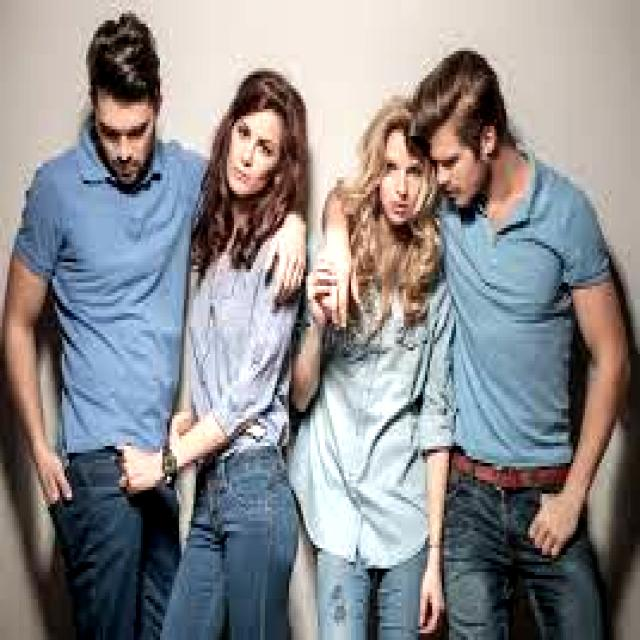face: (94, 92, 157, 187), (430, 120, 494, 207), (227, 109, 284, 200), (380, 130, 427, 228)
lower-wear: (445, 470, 606, 639), (163, 446, 298, 639), (51, 450, 179, 639), (318, 549, 427, 639)
top-wear: (17, 146, 199, 446), (294, 247, 458, 568), (442, 162, 613, 467), (193, 215, 294, 446)
